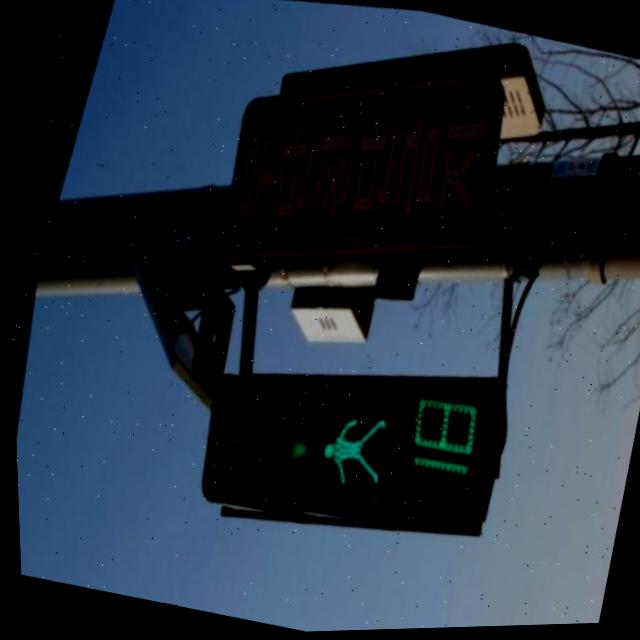green_light: (285, 356, 501, 544)
